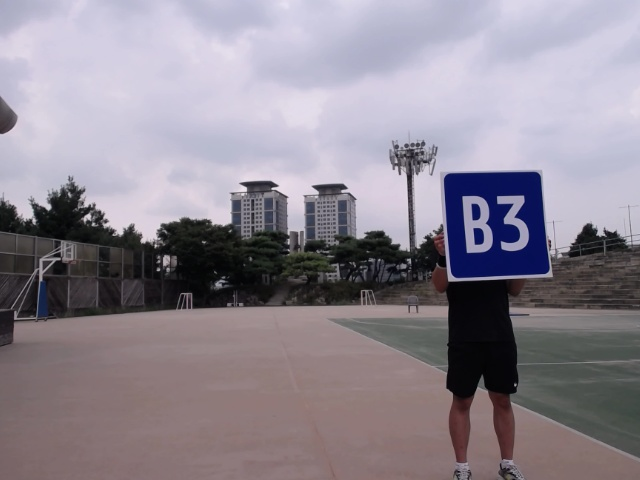delivery_b3: (441, 169, 552, 281)
